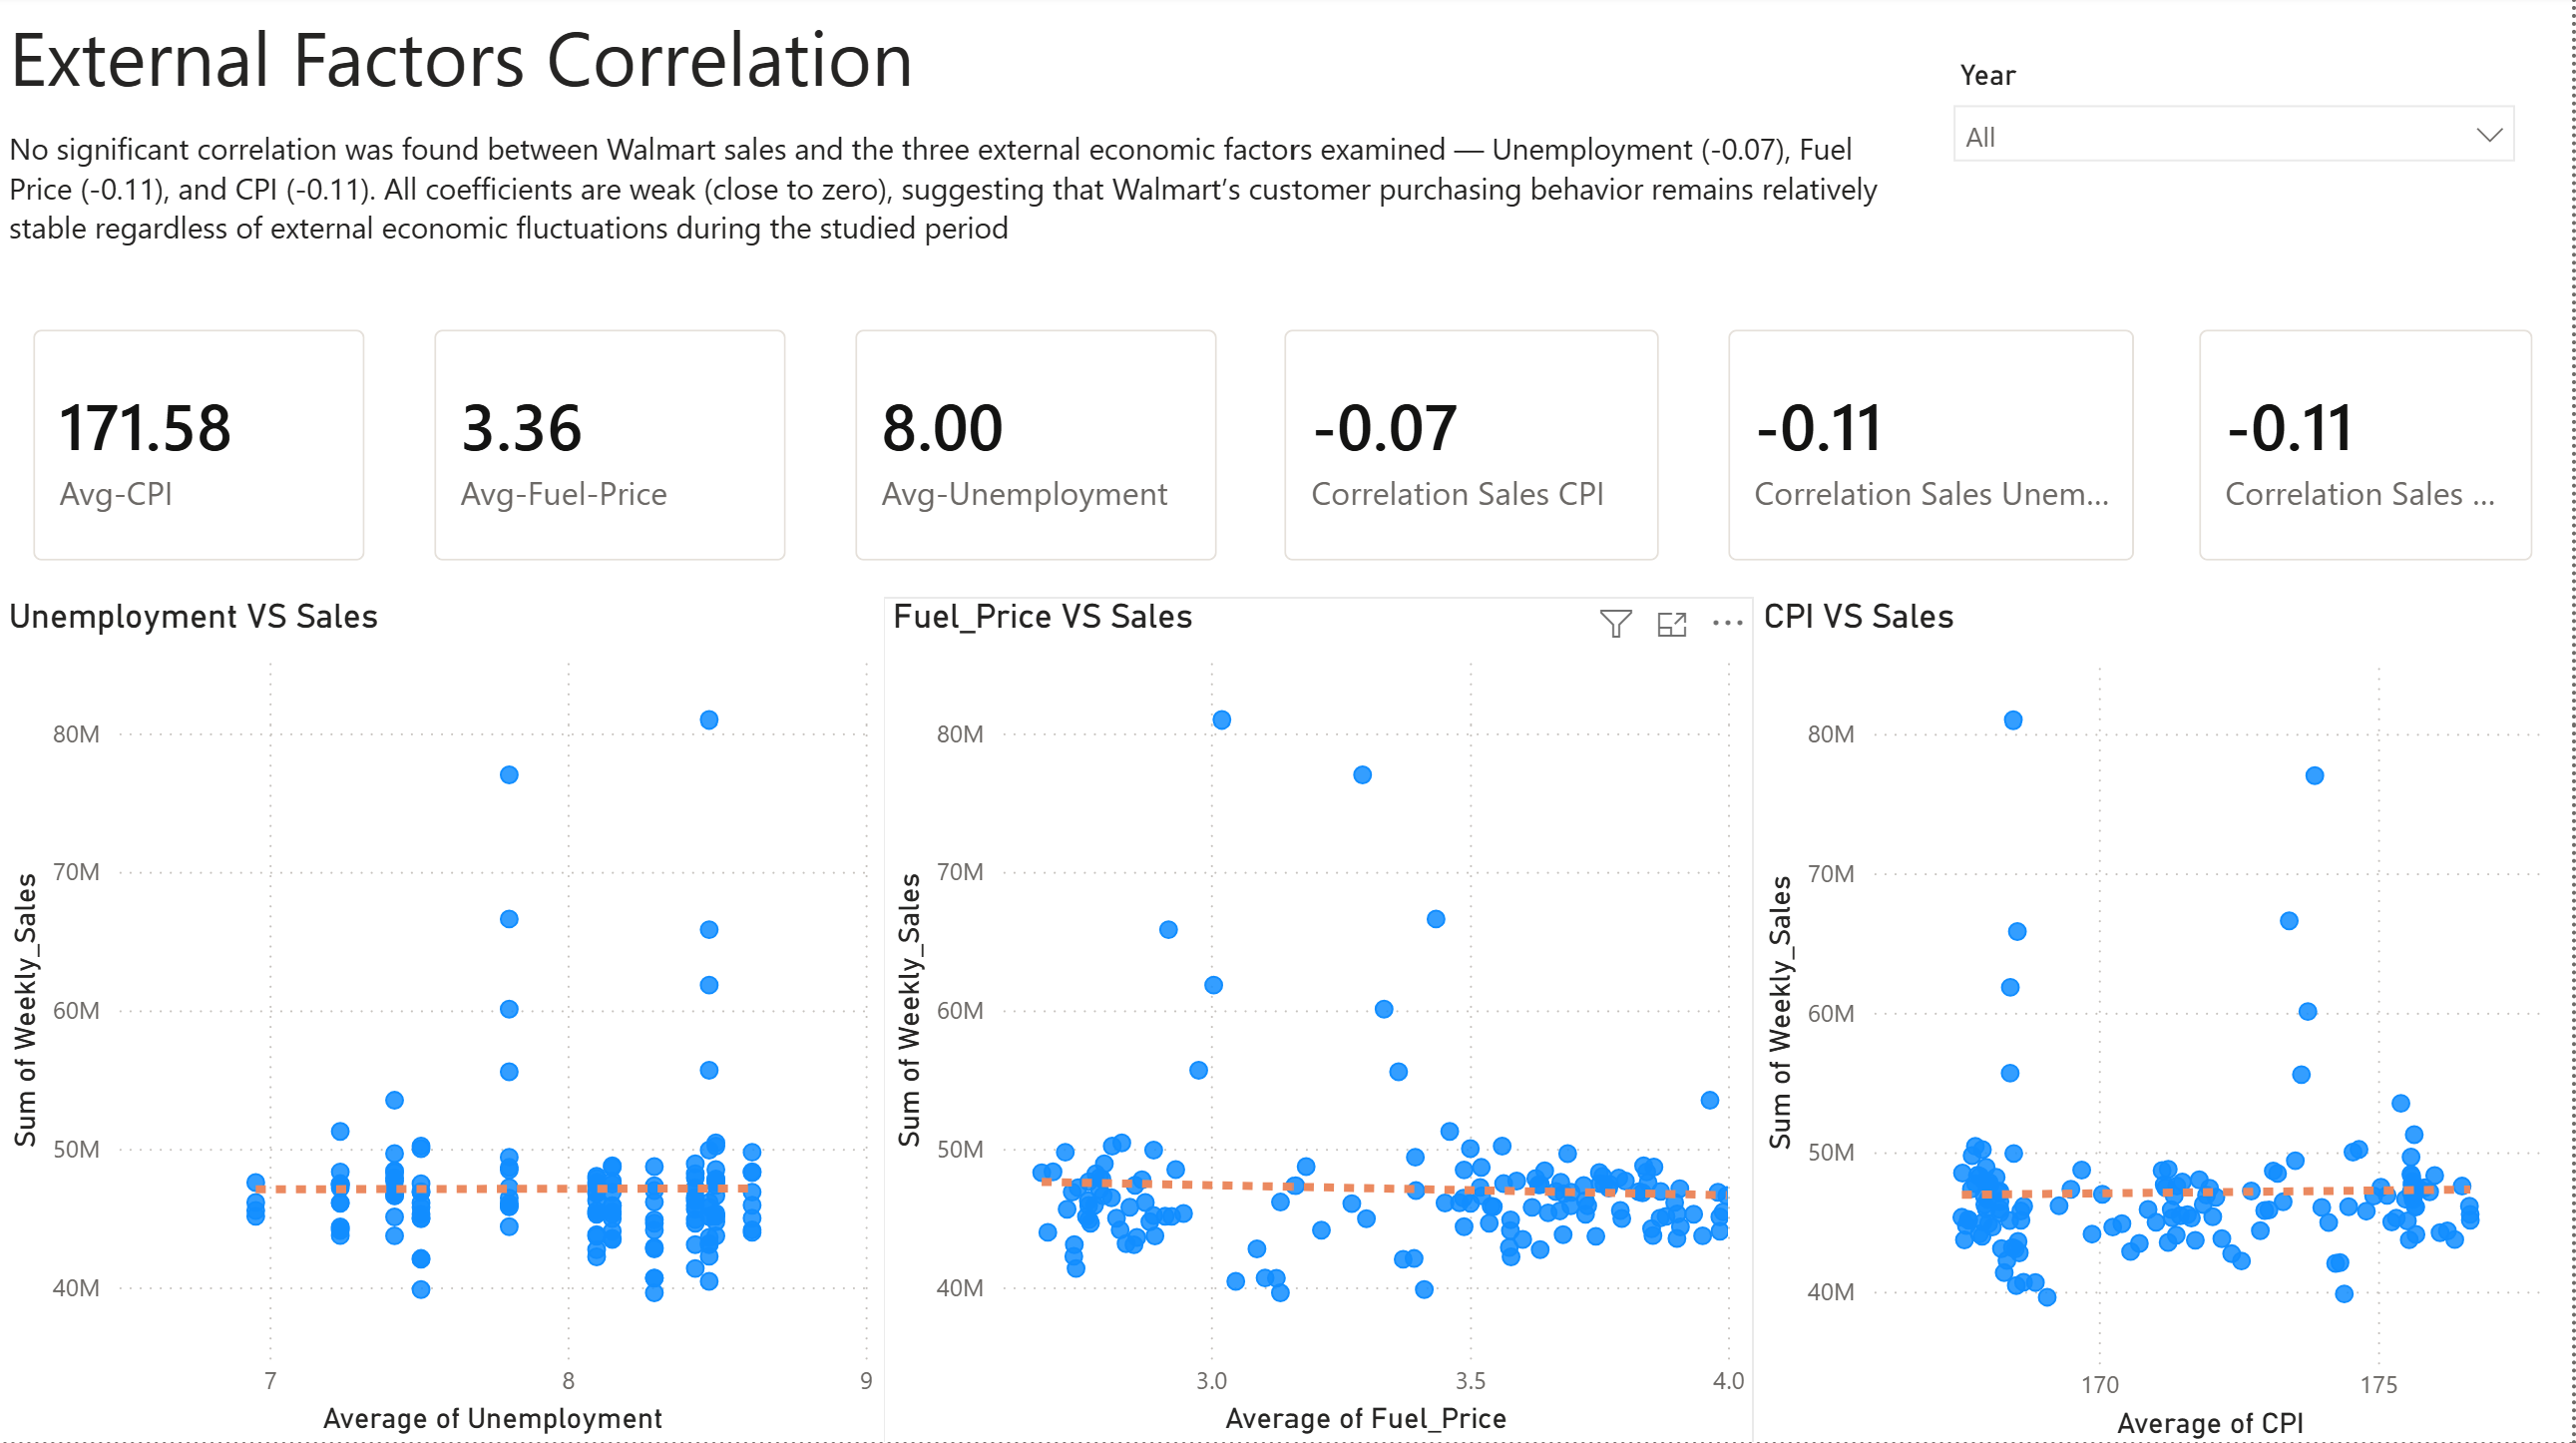

This screenshot's page, from the dashboard's own definition file:
{"tool":"powerbi","page":{"name":"External Factors Correlation","canvas":[1280,720],"ordinal":3},"visuals":[{"type":"textbox","box":[0,0,508.6,61.4],"z":0},{"type":"cardVisual","fields":{"Data":["Measure-.Avg-CPI"]},"box":[0,150.4,199.7,149.2],"z":1000},{"type":"cardVisual","fields":{"Data":["Measure-.Avg-Fuel-Price"]},"box":[199.7,150.4,209.3,149.2],"z":2000},{"type":"cardVisual","fields":{"Data":["Measure-.Avg-Unemployment"]},"box":[409,150.4,214.1,149.2],"z":3000},{"type":"scatterChart","title":"CPI VS Sales","fields":{"Y":["Sum(Fact-Sales.Weekly_Sales)"],"X":["Avg(Fact-Sales.CPI)"],"Category":["Dim-Date.Date"]},"box":[873.4,299.5,409,423.5],"z":4000},{"type":"scatterChart","title":"Fuel_Price  VS Sales","fields":{"Y":["Sum(Fact-Sales.Weekly_Sales)"],"X":["Avg(Fact-Sales.Fuel_Price)"],"Category":["Dim-Date.Date"]},"box":[440.3,299.5,433.1,421.1],"z":5000},{"type":"scatterChart","title":"Unemployment VS Sales","fields":{"X":["Avg(Fact-Sales.Unemployment)"],"Y":["Sum(Fact-Sales.Weekly_Sales)"],"Category":["Dim-Date.Date"]},"box":[0,299.5,440.3,421.1],"z":6000},{"type":"cardVisual","fields":{"Data":["Measure-.Correlation Sales CPI"]},"box":[623.2,150.4,220.2,149.2],"z":7000},{"type":"cardVisual","fields":{"Data":["Measure-.Correlation Sales Unemployment"]},"box":[843.3,150.4,237,149.2],"z":8000},{"type":"cardVisual","fields":{"Data":["Measure-.Correlation Sales Unemployment"]},"box":[1077.9,150.4,200.9,149.2],"z":9000},{"type":"slicer","fields":{"Values":["Dim-Date.Year"]},"box":[962.4,26.5,299.5,71],"z":10000},{"type":"textbox","box":[0,61.4,950.4,89],"z":11000}]}

Visuals, with their boxes in screenshot pixels (x1, y1, x2, y2), scaled from the page's 1280x720 canvas onto the 2576x1443 screenshot:
textbox: select_region(0, 0, 1024, 123)
cardVisual - Measure-.Avg-CPI: select_region(0, 301, 402, 601)
cardVisual - Measure-.Avg-Fuel-Price: select_region(402, 301, 823, 601)
cardVisual - Measure-.Avg-Unemployment: select_region(823, 301, 1254, 601)
"CPI VS Sales" scatterChart: select_region(1758, 600, 2575, 1442)
"Fuel_Price  VS Sales" scatterChart: select_region(886, 600, 1758, 1442)
"Unemployment VS Sales" scatterChart: select_region(0, 600, 886, 1442)
cardVisual - Measure-.Correlation Sales CPI: select_region(1254, 301, 1697, 601)
cardVisual - Measure-.Correlation Sales Unemployment: select_region(1697, 301, 2174, 601)
cardVisual - Measure-.Correlation Sales Unemployment: select_region(2169, 301, 2574, 601)
slicer - Dim-Date.Year: select_region(1936, 53, 2539, 196)
textbox: select_region(0, 123, 1913, 301)
